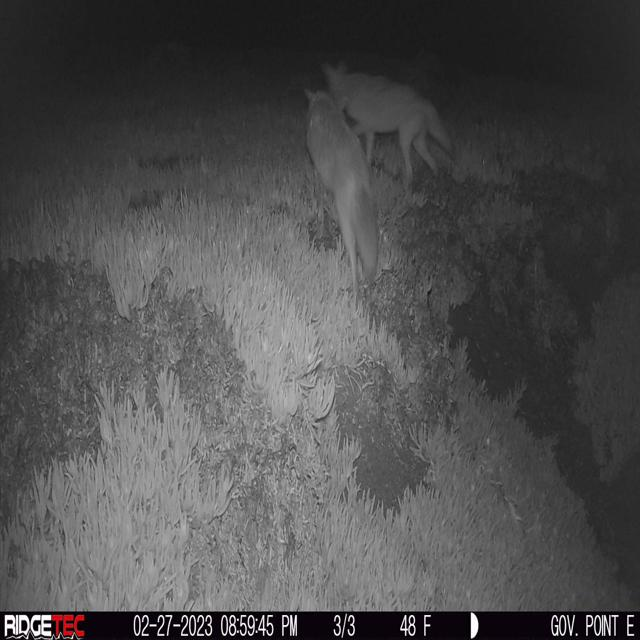coyote: (319, 58, 459, 186)
